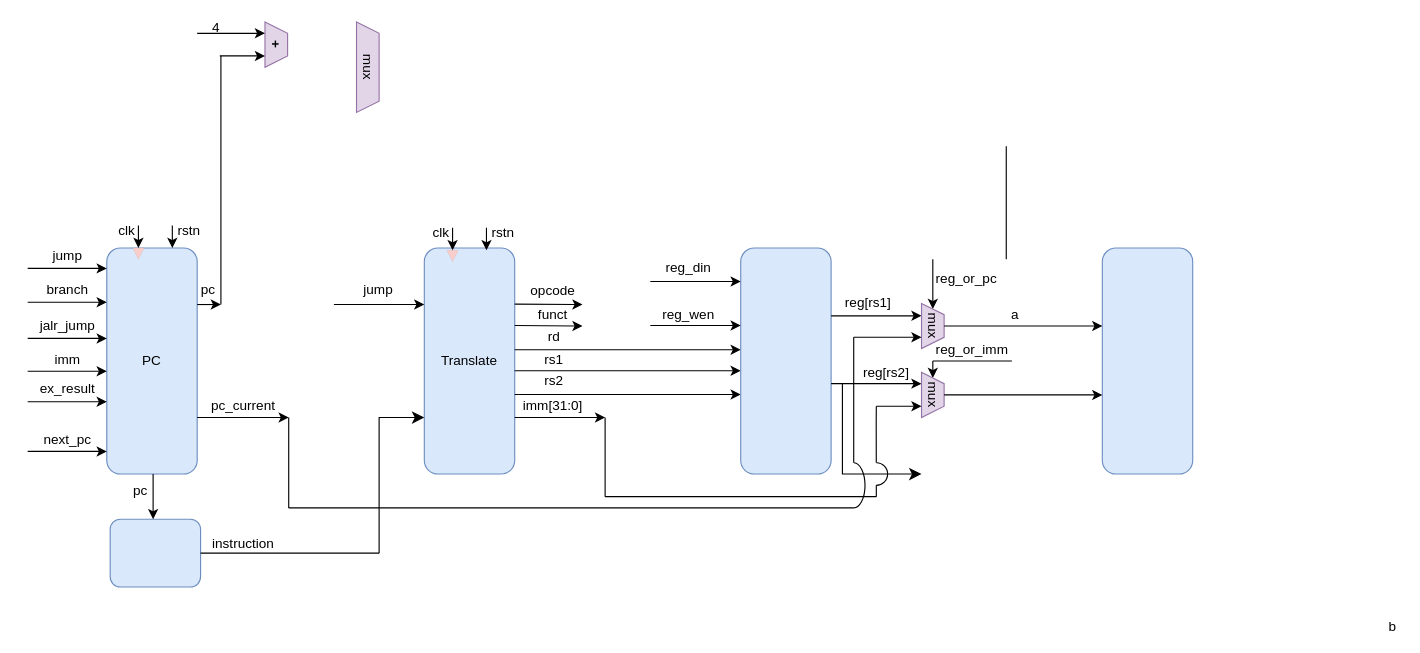
Image size: 1420x653. Some labels were removed from this diagram. The centre of each missing label's shape, as x and y in pixels:
ALU: the point at 1147,360
IROM: the point at 155,552
reg_file x1~x32: the point at 785,360
